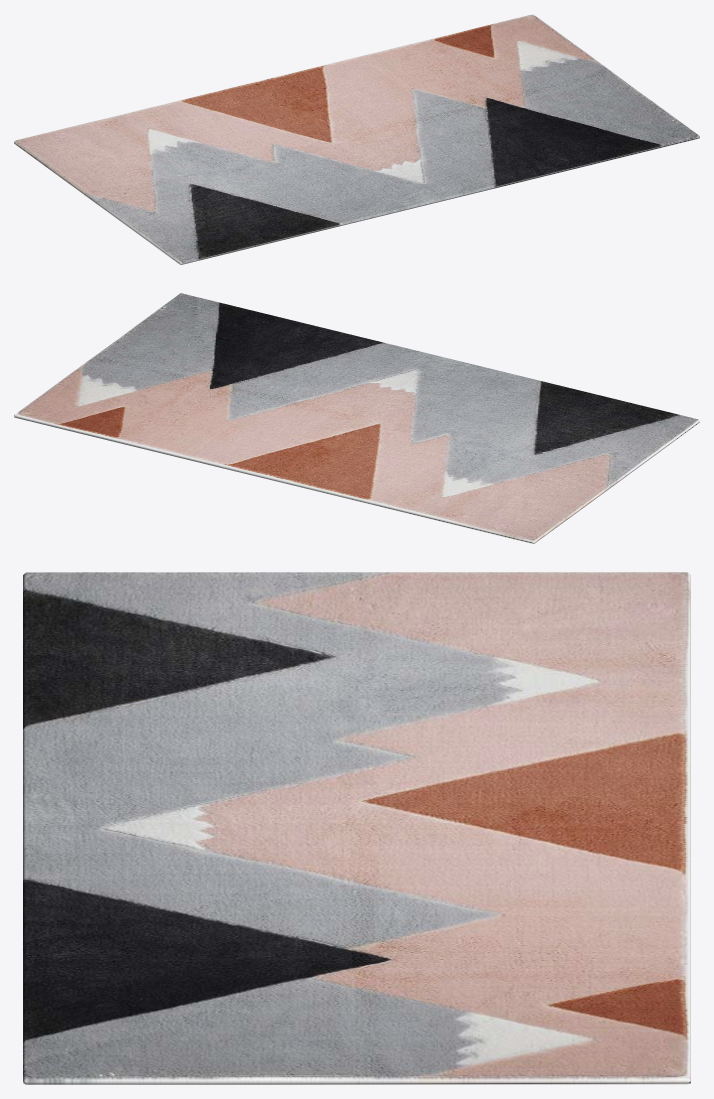
3 renders of one model, top to bottom at view 1: azimuth 30°, elevation 25°; view 2: azimuth 150°, elevation 25°; view 3: azimuth 270°, elevation 25°, orthographic. The views are drawn at different scales.
Parts seen in each view (by area): view 1: map; view 2: map; view 3: map.
Part boxes in pixels (x1,y1,x2,y2): map: [14, 14, 699, 264]; map: [14, 293, 699, 543]; map: [23, 572, 690, 1084].
Size of the model in its own units: 1.8 by 0.00942 by 1.
Materials: 1 (1 with a texture image).
